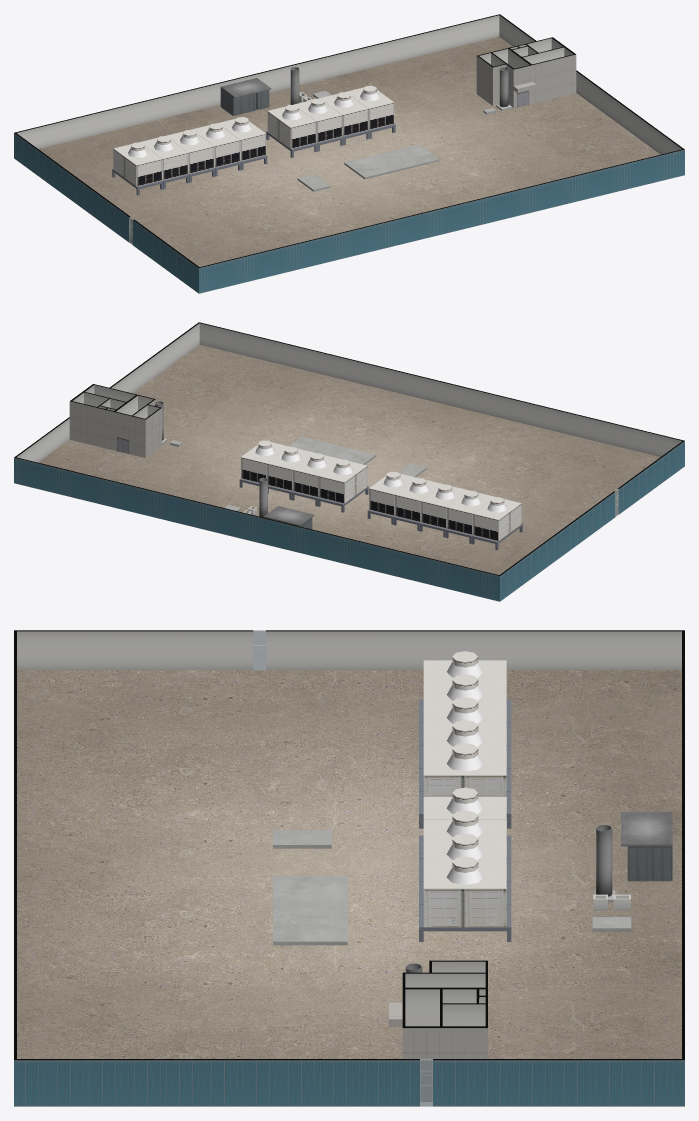
3 renders of one model, top to bottom at view 1: azimuth 30°, elevation 25°; view 2: azimuth 150°, elevation 25°; view 3: azimuth 270°, elevation 25°, orthographic. The views are drawn at different scales.
Parts seen in each view (by area): view 1: Line2223, PD2-PH, Polyline (2), PD2-PH-01, PD2-PH-06, PD2-PH-07, PD2-PH-09, PD2-PH-04, PD2-PH-02, PD2-PH-05, PD2-PH-03, PD2-PH-08 (+1 smaller); view 2: Line2223, PD2-PH, Polyline (2), PD2-PH-06, PD2-PH-01, PD2-PH-03, PD2-PH-04, PD2-PH-07, PD2-PH-02, PD2-PH-05, PD2-PH-08, PD2-PH-09 (+1 smaller); view 3: Line2223, PD2-PH, Polyline (2), PD2-PH-09, PD2-PH-05, PD2-PH-08, PD2-PH-01, PD2-PH-02, PD2-PH-03, PD2-PH-04, PD2-PH-06, PD2-PH-07 (+2 smaller).
Boxes of the visible parts, x1,y1,x2,y2 form: Line2223: [38, 36, 660, 266]; PD2-PH: [14, 14, 684, 293]; Polyline (2): [476, 37, 576, 107]; PD2-PH-01: [112, 142, 163, 195]; PD2-PH-06: [266, 104, 317, 157]; PD2-PH-07: [294, 98, 343, 151]; PD2-PH-09: [346, 85, 395, 138]; PD2-PH-04: [192, 123, 241, 176]; PD2-PH-02: [140, 136, 189, 188]; PD2-PH-05: [217, 117, 267, 169]; PD2-PH-03: [166, 129, 215, 182]; PD2-PH-08: [320, 92, 369, 144]; Line2223: [38, 344, 660, 574]; PD2-PH: [14, 322, 684, 601]; Polyline (2): [69, 384, 161, 458]; PD2-PH-06: [317, 459, 368, 512]; PD2-PH-01: [471, 497, 522, 550]; PD2-PH-03: [419, 484, 469, 537]; PD2-PH-04: [393, 478, 443, 531]; PD2-PH-07: [291, 453, 341, 506]; PD2-PH-02: [445, 490, 494, 543]; PD2-PH-05: [367, 471, 417, 524]; PD2-PH-08: [267, 446, 315, 499]; PD2-PH-09: [239, 440, 288, 487]; Line2223: [17, 670, 681, 1058]; PD2-PH: [14, 630, 684, 1106]; Polyline (2): [389, 960, 487, 1101]; PD2-PH-09: [419, 856, 511, 941]; PD2-PH-05: [419, 743, 511, 828]; PD2-PH-08: [419, 833, 511, 904]; PD2-PH-01: [419, 651, 511, 722]; PD2-PH-02: [419, 674, 511, 745]; PD2-PH-03: [419, 697, 511, 768]; PD2-PH-04: [419, 720, 511, 791]; PD2-PH-06: [419, 787, 511, 858]; PD2-PH-07: [419, 810, 511, 881].
Bounding box in the file's own units: 79.27 × 6.66 × 52.27.
Materials: 22 (20 with a texture image).
